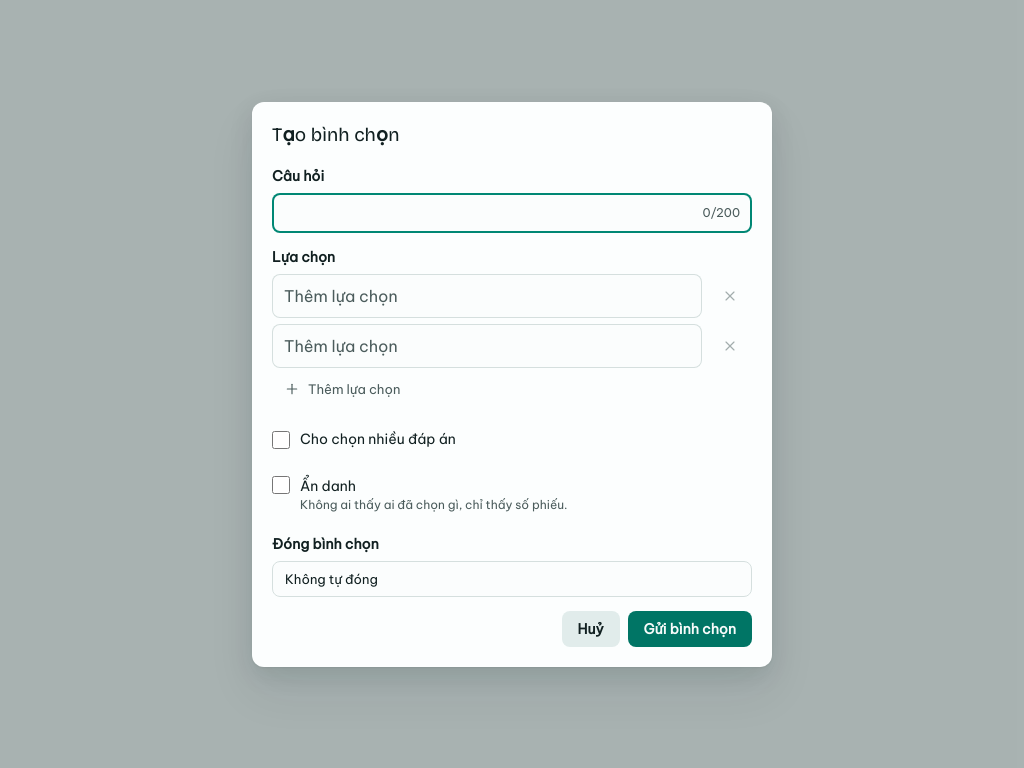
PollDialog › keeps the form and explains a refusal
In the field labelled "Câu hỏi": (489, 212) left=284, top=192, right=694, bottom=232, type "Họp lúc nào?"
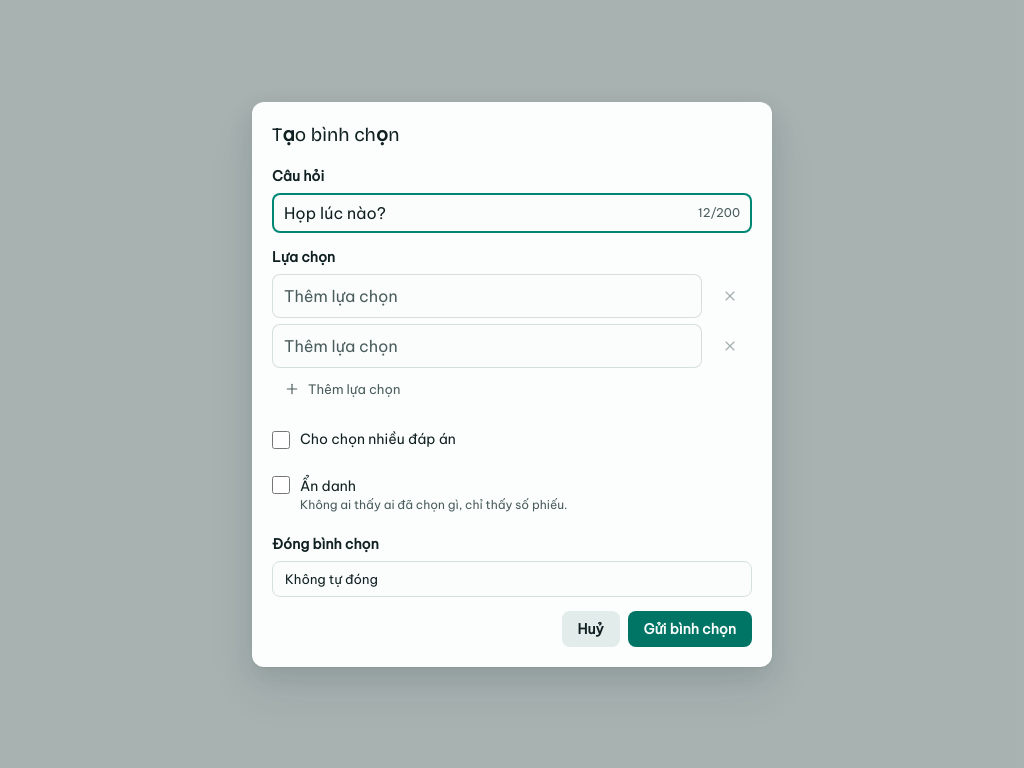
In the field named "Lựa chọn 1": (487, 296) left=272, top=274, right=702, bottom=318, type "Sáng"
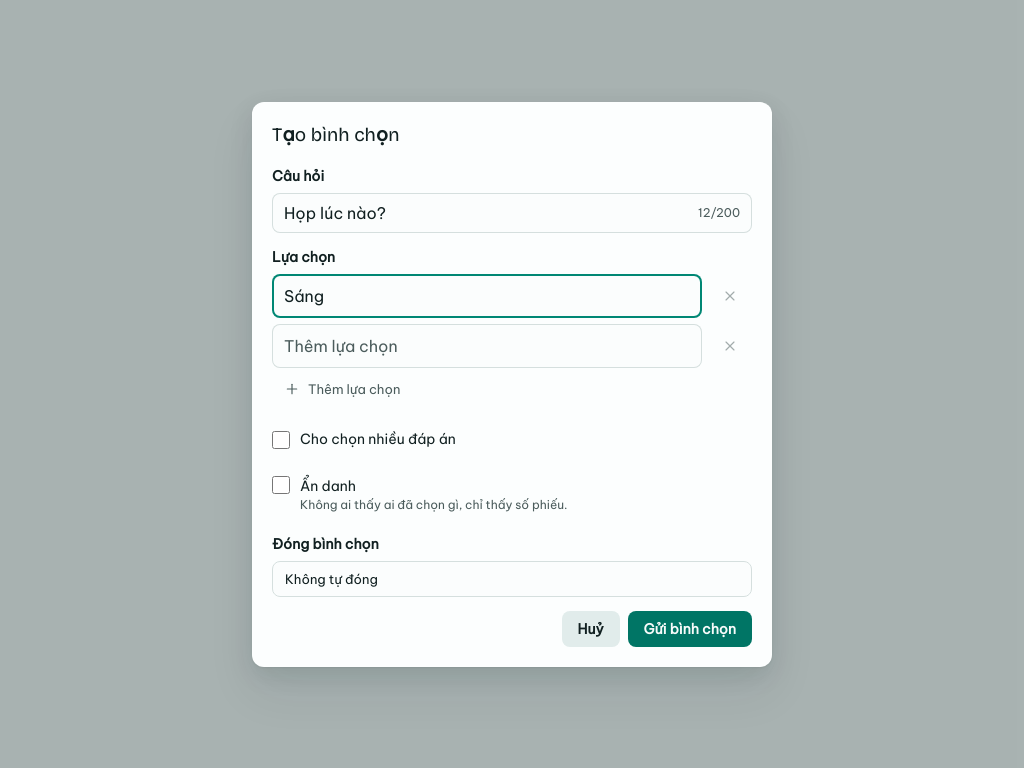
In the field named "Lựa chọn 2": (487, 346) left=272, top=324, right=702, bottom=368, type "Chiều"
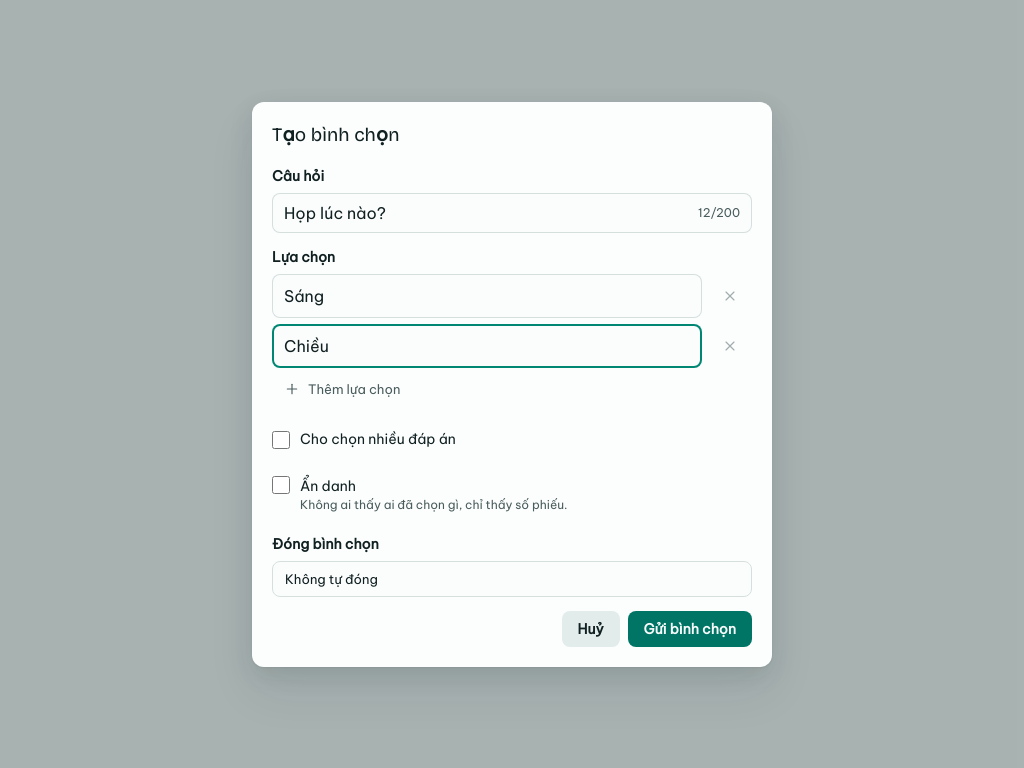
Click the button "Gửi bình chọn": (690, 628) left=628, top=610, right=752, bottom=646
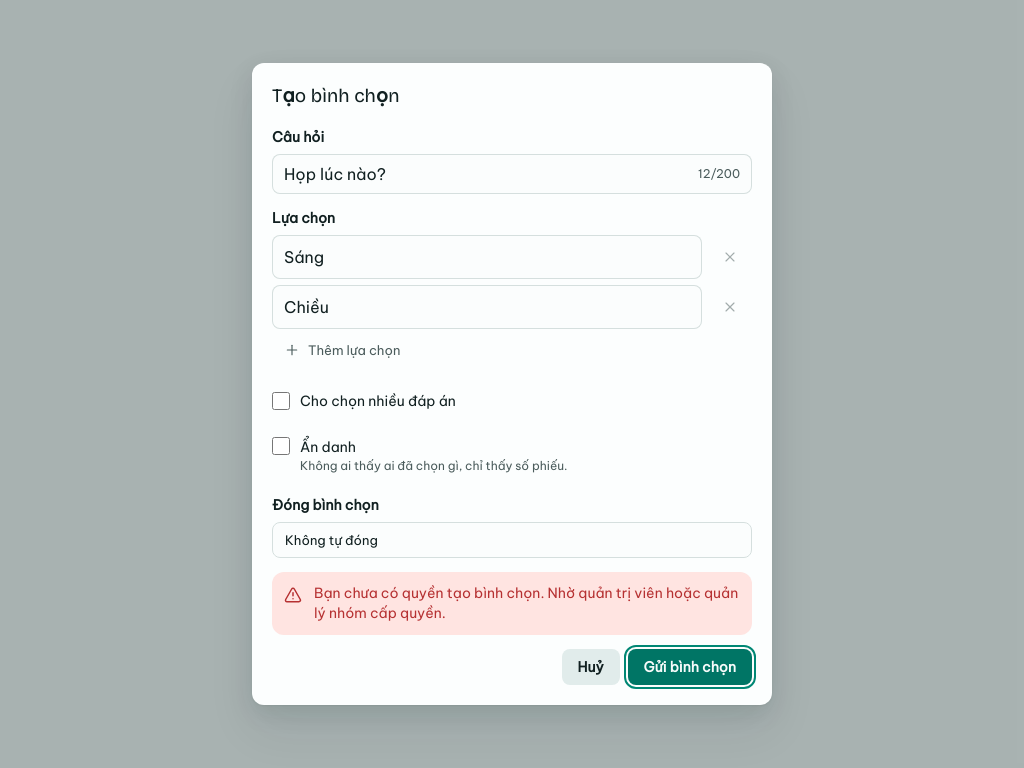
Expected: the text "Bạn chưa có quyền tạo bình chọn" is shown, left=314, top=584, right=738, bottom=622
